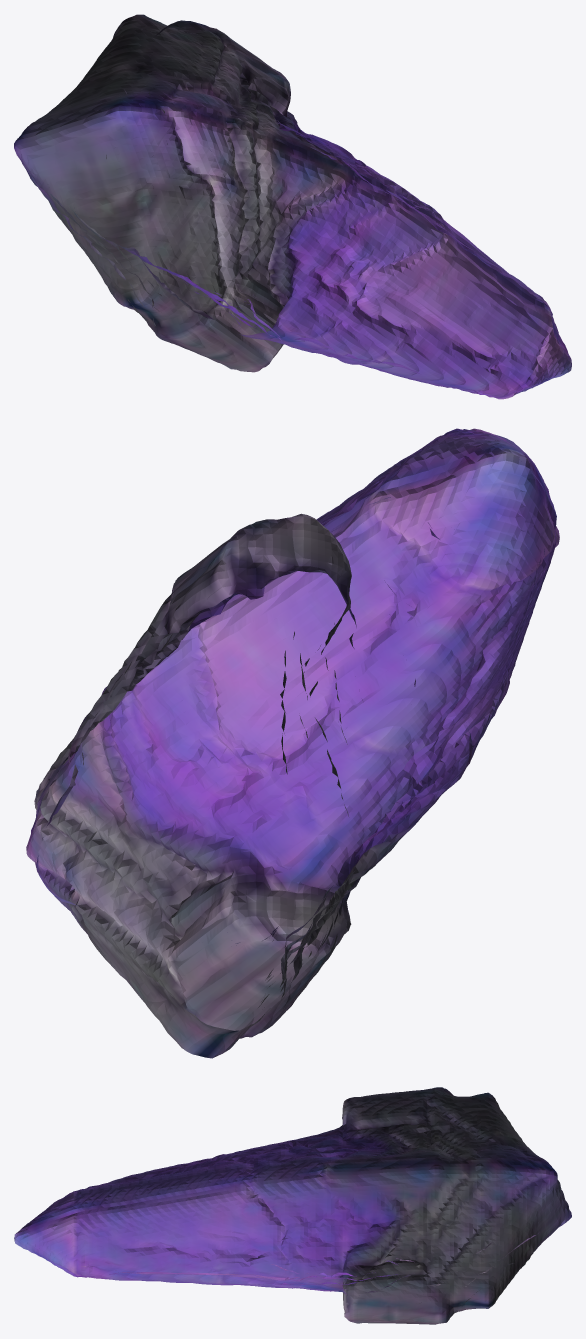
3 renders of one model, top to bottom at view 1: azimuth 30°, elevation 25°; view 2: azimuth 150°, elevation 25°; view 3: azimuth 270°, elevation 25°, orthographic. The views are drawn at different scales.
Visible parts, largest first — view 1: world; view 2: world; view 3: world.
Boxes of the visible parts, box(x1,y1,x2,y2) form: world: box(14, 14, 571, 399); world: box(26, 428, 559, 1058); world: box(14, 1087, 571, 1324).
Bounding box in the file's own units: 0.3775 × 0.4518 × 0.9909.
